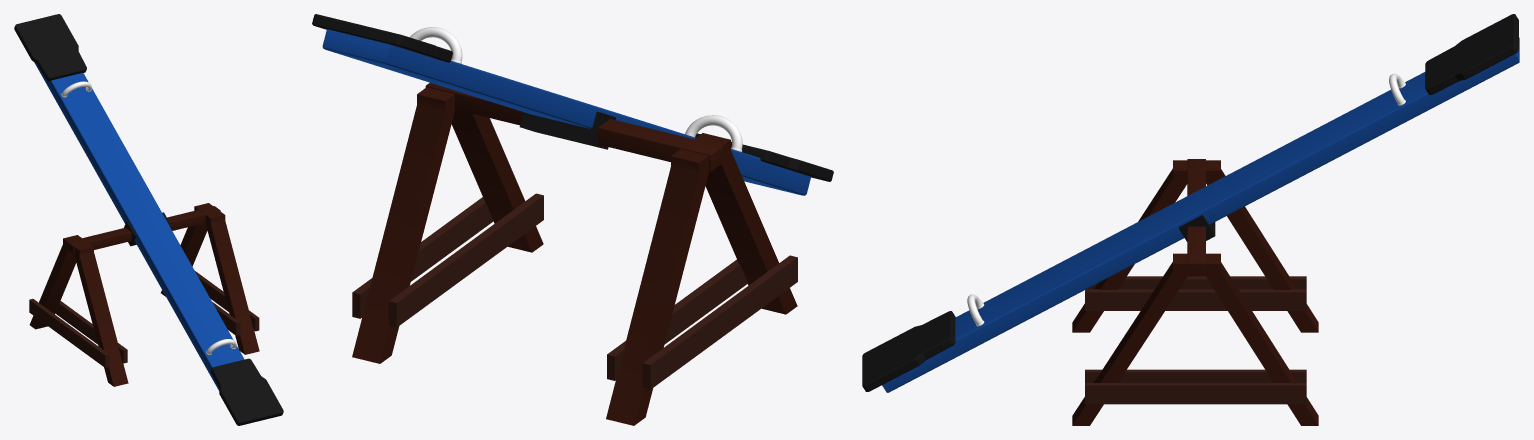
File: Seesaw_Blue.FBX
3 views of the same model, side by side, from view 1: azimuth 30°, elevation 25°; view 2: azimuth 150°, elevation 25°; view 3: azimuth 270°, elevation 25° (orthographic). The views are drawn at different scales.
Parts seen in each view (by area): view 1: Seat003, Line006, Line005, Box062, Box063, Box058, Box061, Box064, Box060, Box059; view 2: Line006, Line005, Seat003, Box061, Box059, Box058, Box064, Box060, Box063, Box065, Box062, Arc001 (+1 smaller); view 3: Seat003, Line005, Line006, Box060, Box064, Box062, Box063, Box059, Box061, Box058.
Boxes of the visible parts, bbox=[...] form: Seat003: bbox=[34, 62, 244, 390]; Line006: bbox=[29, 235, 128, 386]; Line005: bbox=[161, 203, 259, 354]; Box062: bbox=[211, 358, 283, 425]; Box063: bbox=[14, 14, 86, 81]; Box058: bbox=[67, 206, 220, 254]; Box061: bbox=[29, 299, 109, 367]; Box064: bbox=[55, 301, 127, 363]; Box060: bbox=[195, 271, 259, 331]; Box059: bbox=[212, 302, 240, 335]; Line006: bbox=[606, 133, 797, 425]; Line005: bbox=[352, 87, 543, 363]; Seat003: bbox=[322, 29, 810, 195]; Box061: bbox=[642, 255, 797, 389]; Box059: bbox=[388, 193, 543, 327]; Box058: bbox=[425, 82, 722, 171]; Box064: bbox=[607, 259, 748, 380]; Box060: bbox=[352, 197, 493, 318]; Box063: bbox=[312, 14, 452, 62]; Box065: bbox=[519, 111, 615, 149]; Box062: bbox=[695, 133, 833, 181]; Arc001: bbox=[685, 115, 742, 151]; Seat003: bbox=[882, 37, 1519, 392]; Line005: bbox=[1072, 253, 1318, 425]; Line006: bbox=[1072, 160, 1318, 332]; Box060: bbox=[1085, 383, 1306, 404]; Box064: bbox=[1085, 289, 1306, 310]; Box062: bbox=[862, 311, 955, 391]; Box063: bbox=[1425, 14, 1518, 94]; Box059: bbox=[1085, 369, 1306, 382]; Box061: bbox=[1087, 276, 1306, 289]; Box058: bbox=[1187, 159, 1205, 276].
Bounding box in the file's own units: 9.42 × 23.91 × 14.13.
